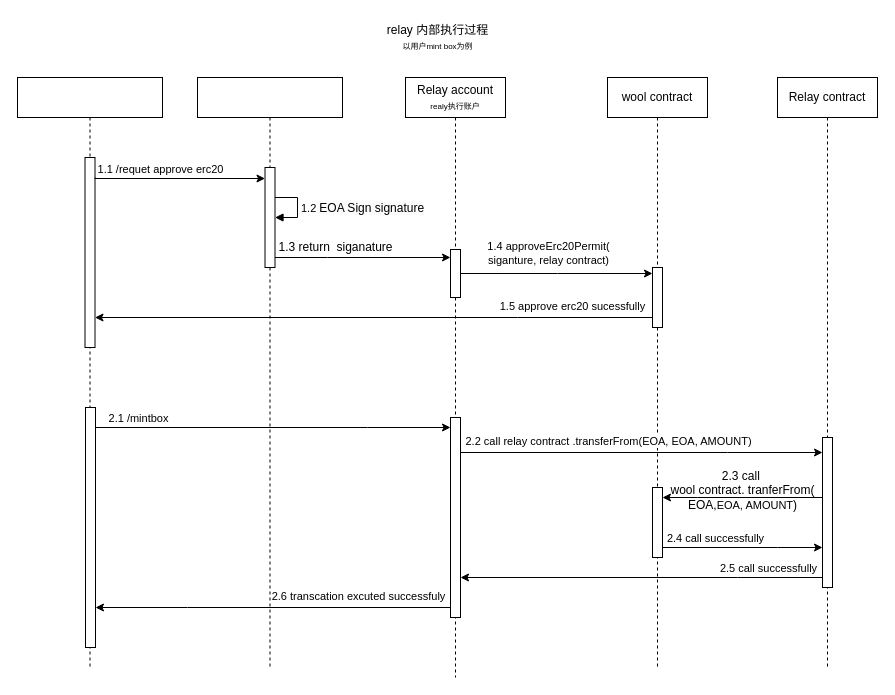
This 895x695 diagram has some shape labels left out. Each missing label, with the box of its shape:
EOA 简单理解为用户钱包账户: (196, 76, 342, 668)
WEB Page: (16, 76, 162, 668)
